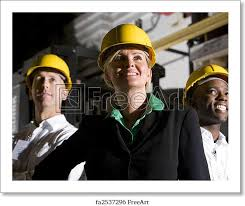Person_wearing_helmet: (94, 21, 159, 73), (26, 49, 73, 91)
